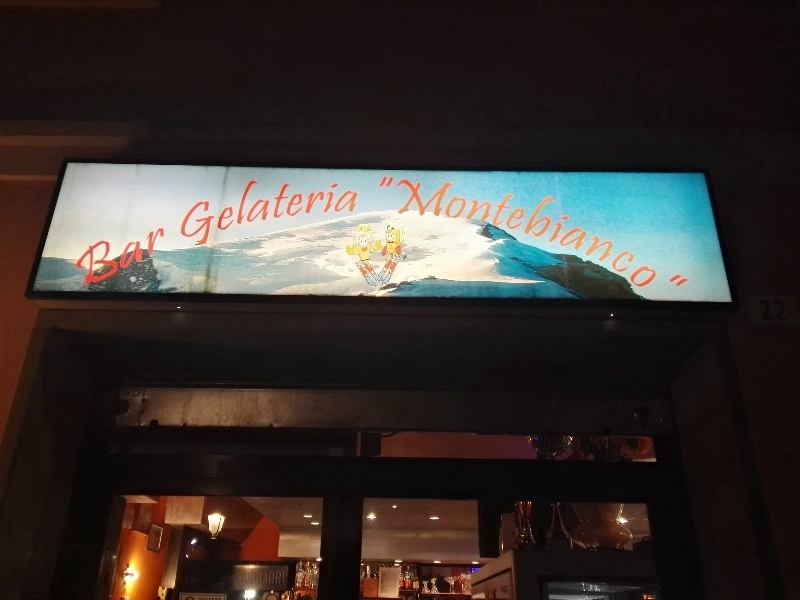text: (497, 55, 512, 193), (513, 55, 528, 193), (529, 55, 544, 193), (545, 55, 560, 193), (561, 55, 576, 193), (577, 55, 592, 193), (593, 55, 608, 193), (609, 55, 624, 193), (625, 55, 640, 193), (641, 55, 656, 193), (465, 114, 481, 196), (321, 114, 336, 196), (337, 114, 352, 196), (353, 114, 368, 196), (369, 114, 384, 196), (385, 114, 400, 196), (401, 114, 416, 196), (417, 114, 432, 196), (433, 114, 448, 196), (449, 114, 464, 196), (657, 55, 665, 193), (161, 161, 176, 232), (177, 161, 192, 232), (193, 161, 208, 232), (209, 161, 224, 232), (81, 186, 96, 237), (97, 186, 112, 237), (113, 186, 128, 237), (129, 186, 144, 237), (225, 161, 235, 232), (491, 55, 496, 193), (593, 119, 608, 160), (609, 119, 624, 160), (625, 119, 640, 160), (641, 119, 656, 160), (68, 186, 80, 237), (145, 186, 155, 237), (154, 161, 160, 232), (657, 119, 667, 160), (209, 202, 224, 218), (199, 202, 208, 218), (589, 119, 592, 160), (225, 202, 229, 218), (450, 343, 464, 346), (449, 346, 458, 350), (449, 327, 456, 331), (449, 351, 457, 354), (444, 327, 448, 331), (444, 346, 448, 350), (449, 351, 457, 353), (445, 351, 448, 354), (444, 351, 448, 353), (446, 343, 448, 345), (449, 343, 450, 345)
